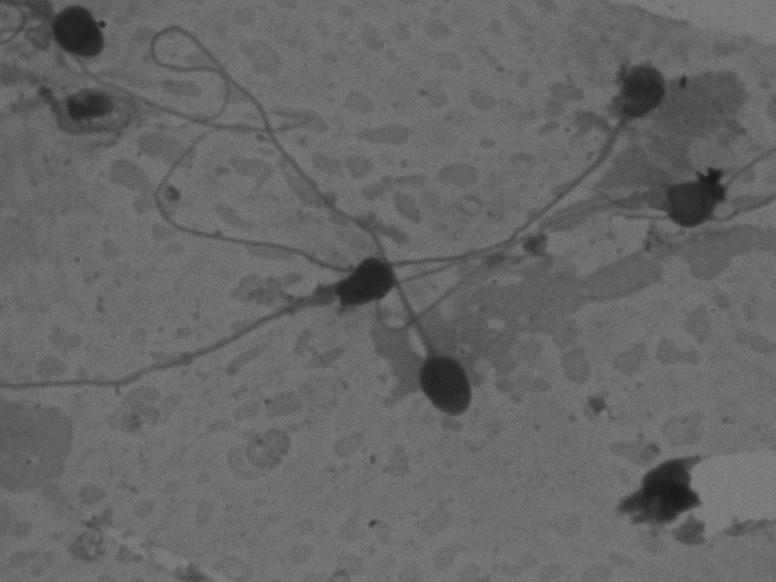Abnormal: (423, 53, 675, 319), (9, 251, 396, 399), (518, 169, 735, 272)
Normal: (130, 14, 489, 426)
